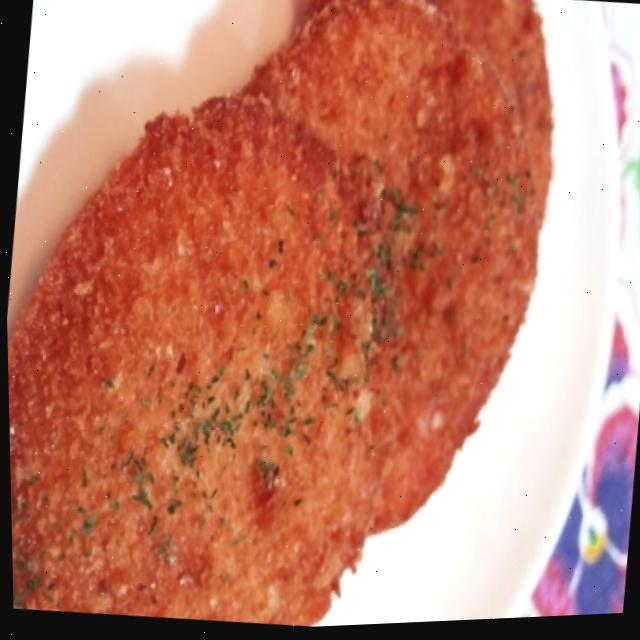炸货点心: (0, 0, 621, 640)
